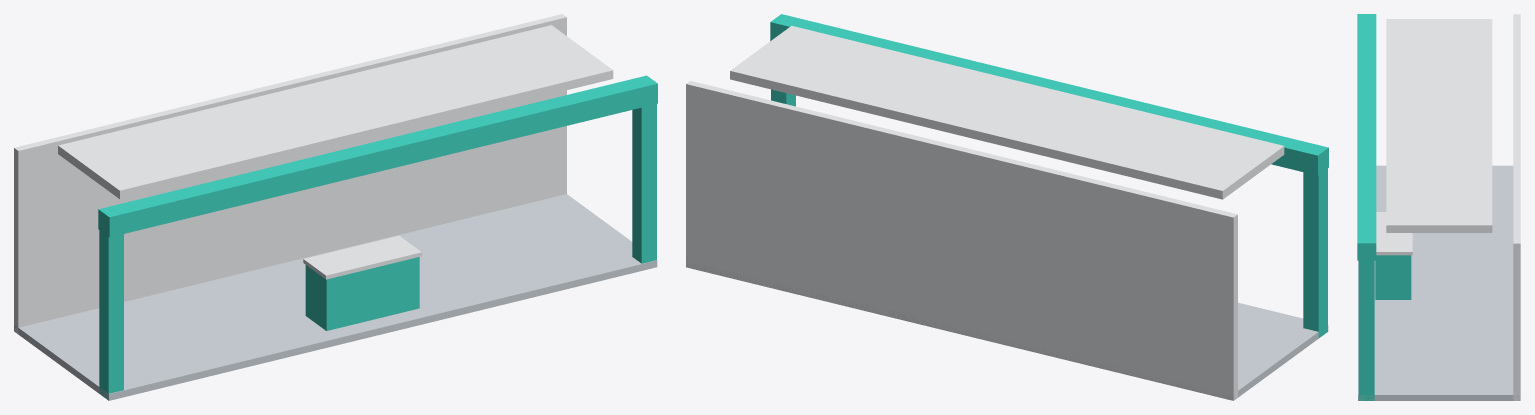
3 views of the same model, side by side, from view 1: azimuth 30°, elevation 25°; view 2: azimuth 150°, elevation 25°; view 3: azimuth 270°, elevation 25° (orthographic). The views are drawn at different scales.
Visible parts, largest first — view 1: Exhibition Booth Concept; view 2: Exhibition Booth Concept; view 3: Exhibition Booth Concept.
Boxes of the visible parts, <box> form: Exhibition Booth Concept: <box>14,14,657,400</box>; Exhibition Booth Concept: <box>686,14,1328,400</box>; Exhibition Booth Concept: <box>1357,14,1520,400</box>.
Size of the model in its own units: 10 by 3.34 by 3.01.
